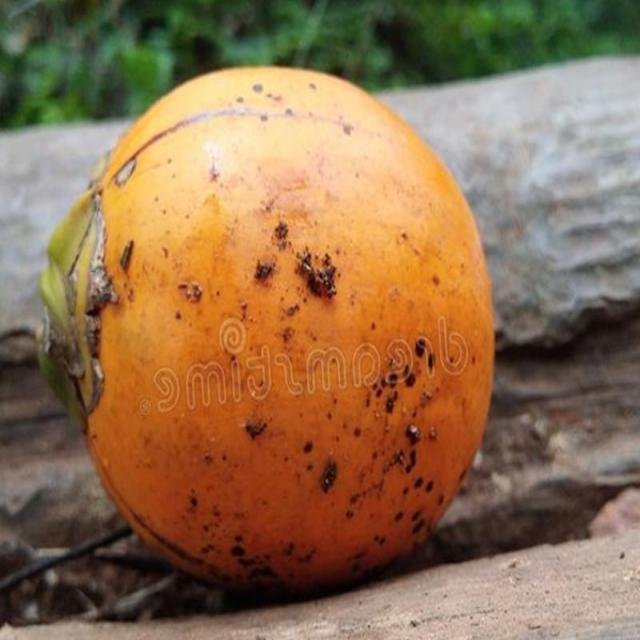good: (38, 66, 496, 603)
